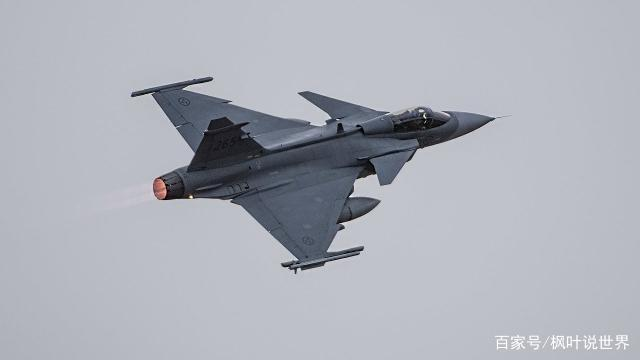airplane: (121, 75, 505, 267)
